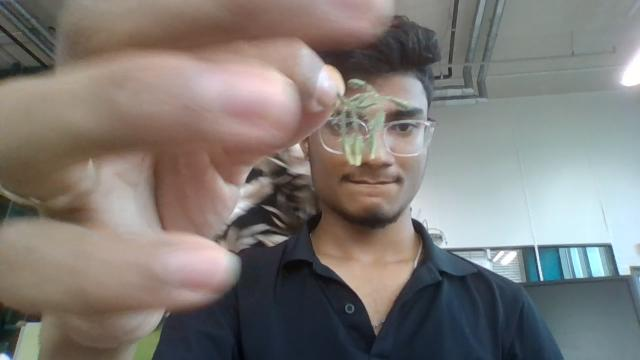Flower Bud: (352, 132, 364, 166), (386, 97, 417, 110), (368, 124, 378, 162)
